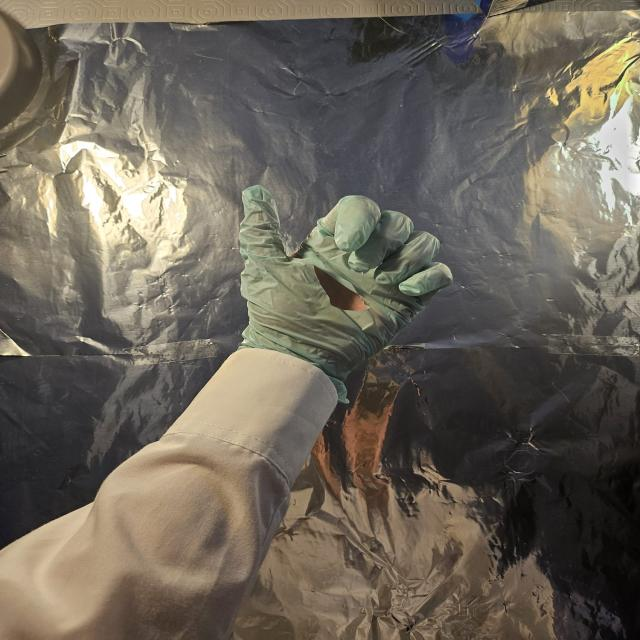gloves_damaged: (234, 178, 455, 404)
